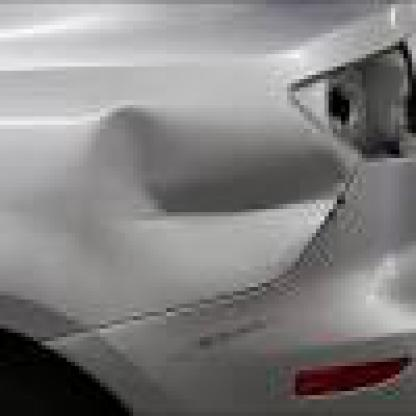dent: (93, 106, 335, 222)
